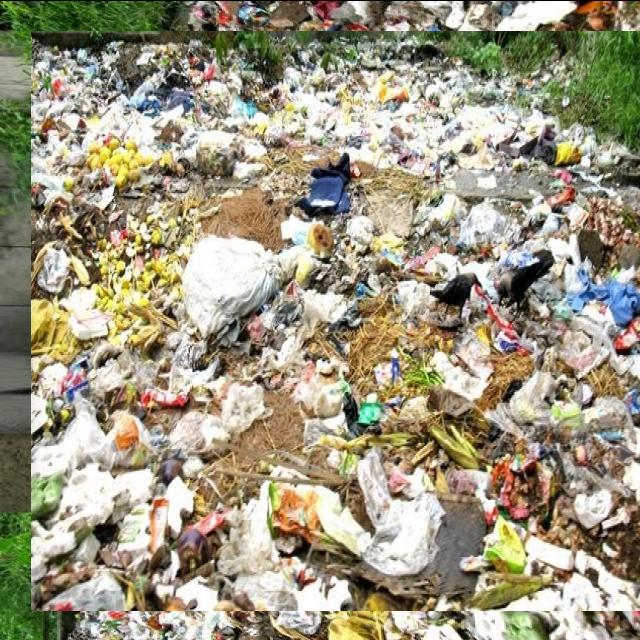garbage: (45, 15, 640, 625)
